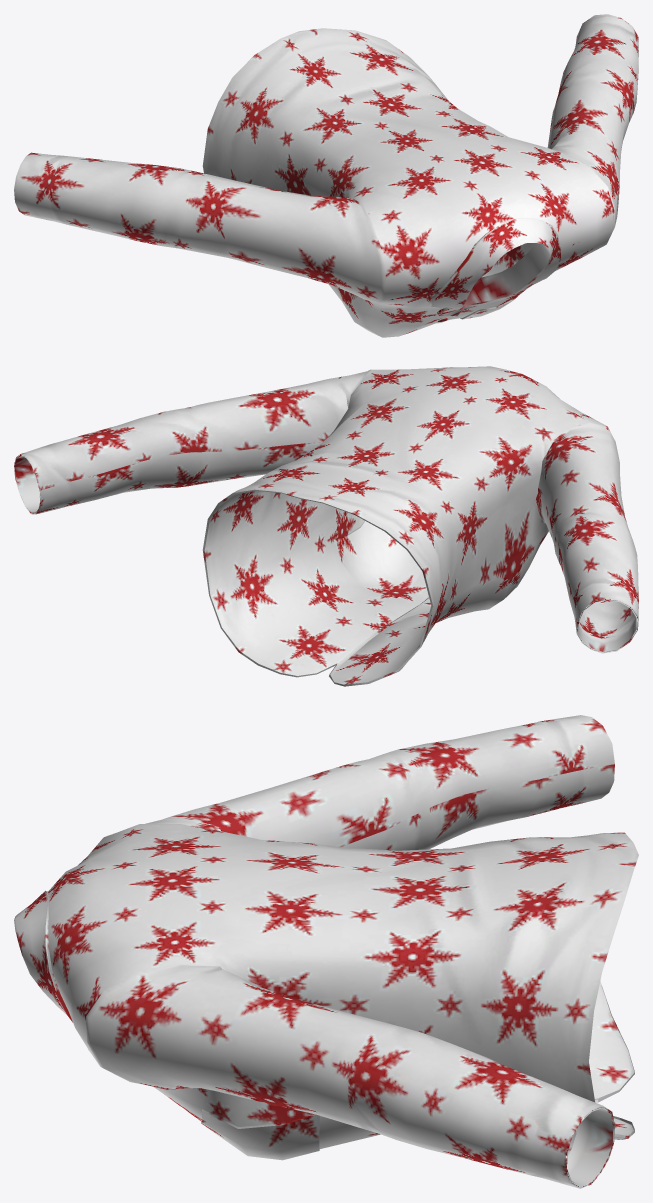
The picture shows the model from 3 angles, top to bottom: view 1: azimuth 30°, elevation 25°; view 2: azimuth 150°, elevation 25°; view 3: azimuth 270°, elevation 25°; orthographic projection. The views are drawn at different scales.
Visible parts, largest first — view 1: jbib_001_u_high_1.014; view 2: jbib_001_u_high_1.014; view 3: jbib_001_u_high_1.014.
Part boxes in pixels (<box>): jbib_001_u_high_1.014: <box>14,14,638,337</box>; jbib_001_u_high_1.014: <box>14,366,638,686</box>; jbib_001_u_high_1.014: <box>14,715,638,1188</box>.
Size of the model in its own units: 1.1 by 0.3271 by 0.687.
Materials: 1 (1 with a texture image).
